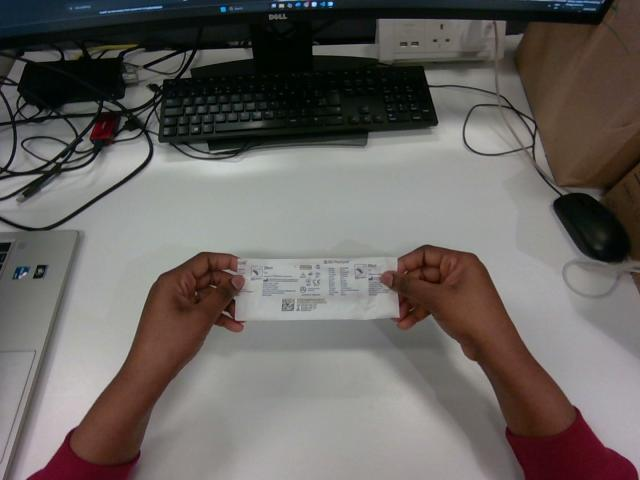syringe: (235, 257, 398, 320)
